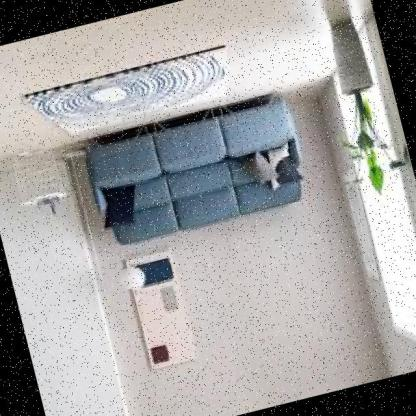Sofa: (70, 78, 326, 270)
